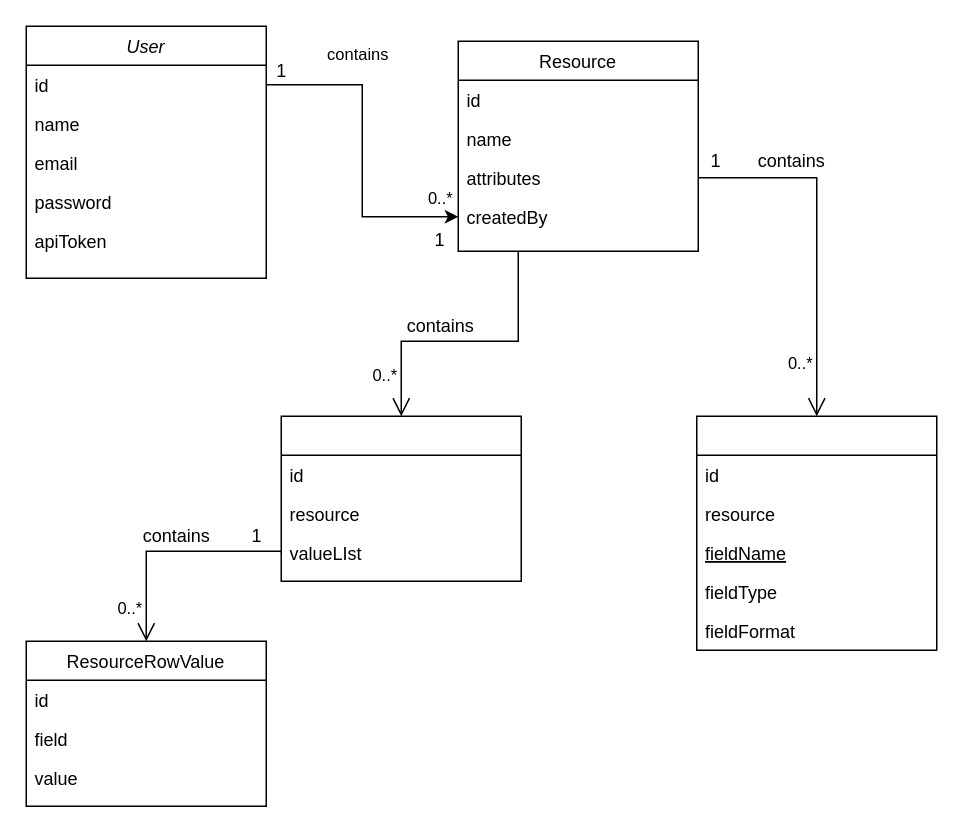
Image size: 963x833. Some labels were removed from this diagram. Each missing label, with the box of its shape:
ResourceAttribute: (695, 415, 937, 650)
ResourceRow: (280, 415, 521, 581)
